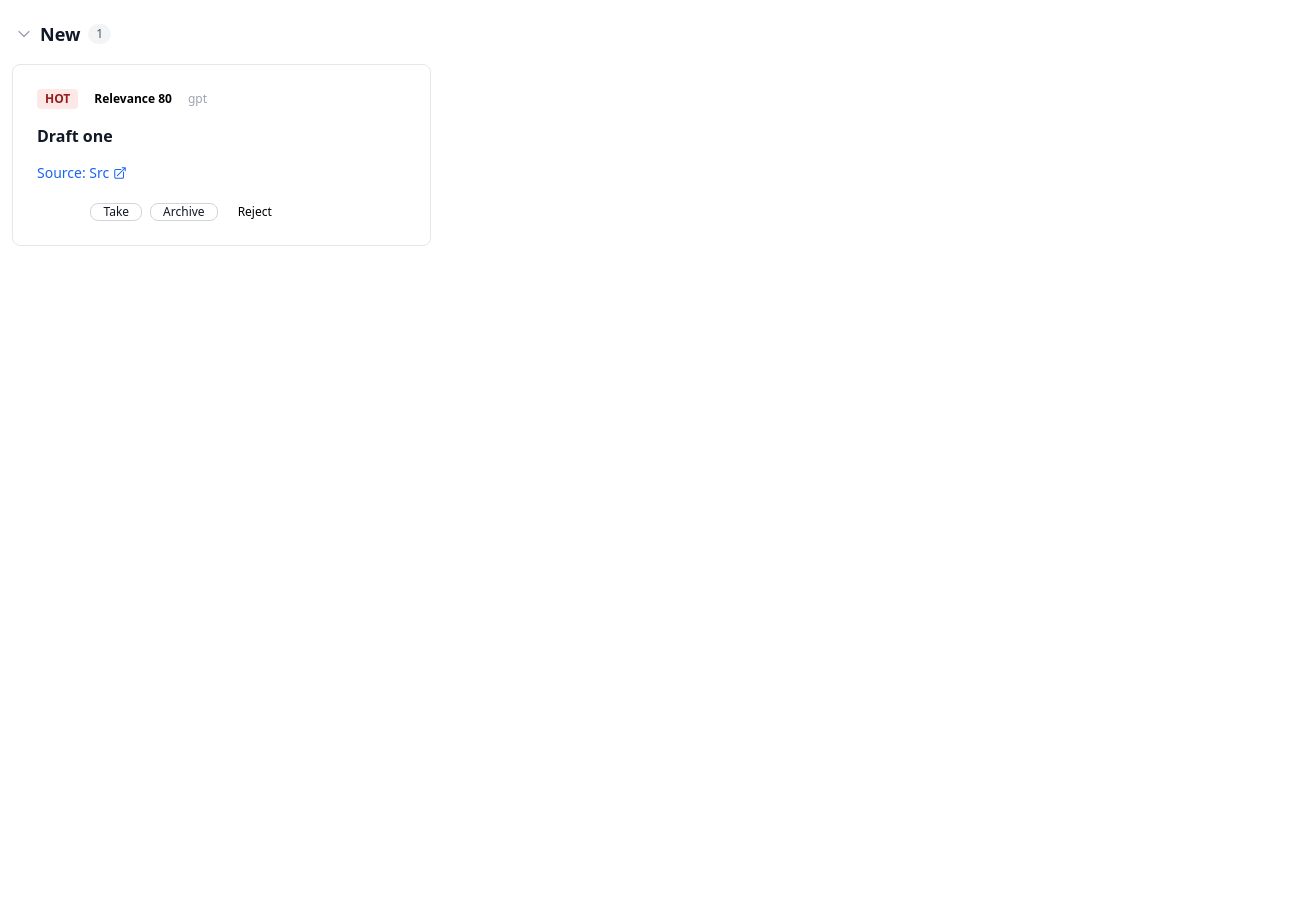
Test: DraftsBoard › optimistically moves a post to in_progress on success
Step 1. Click the button "Take" → [116, 212], box [90,203,142,221]
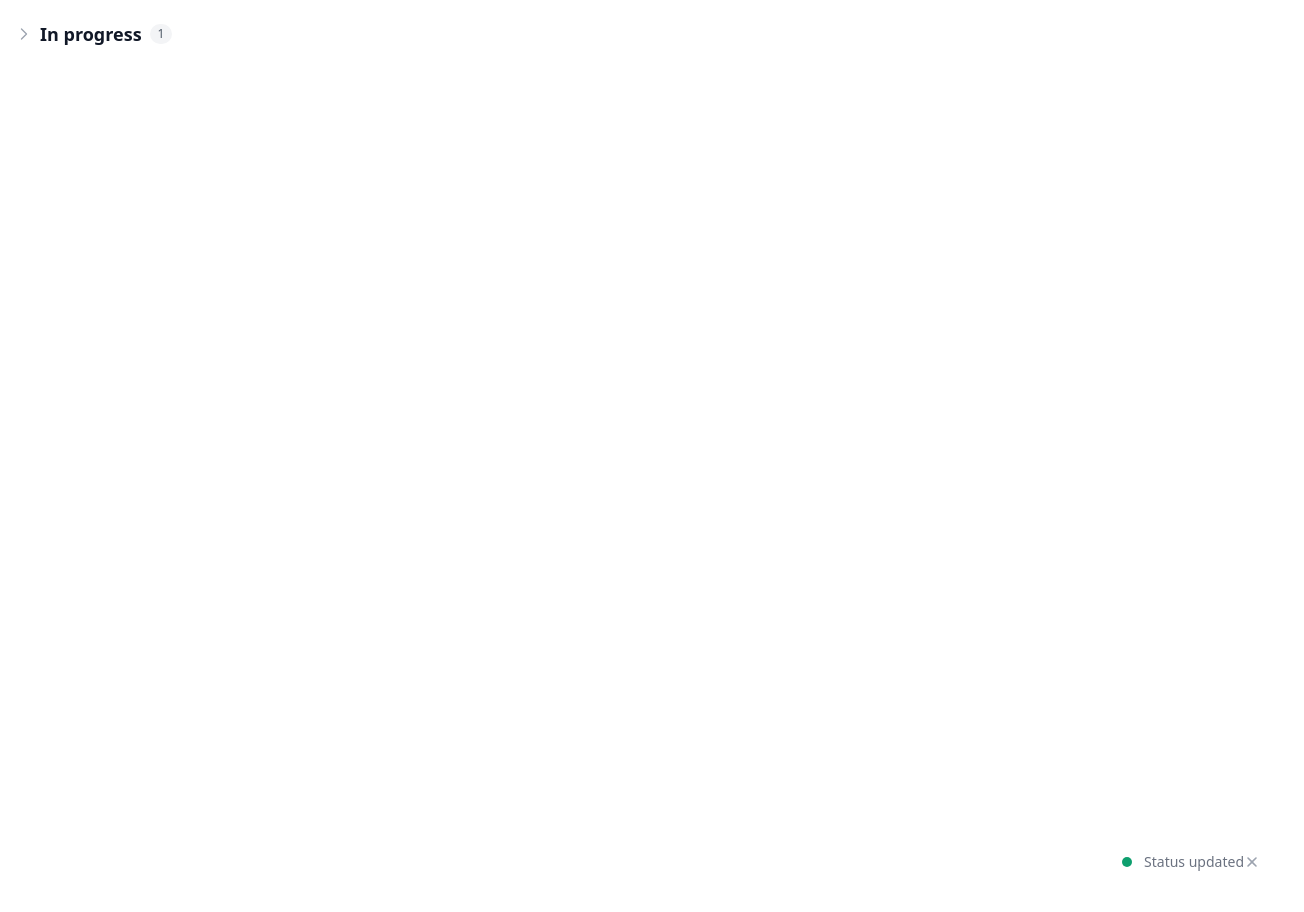
Now the heading "In progress" is shown, box [40,20,142,48]
